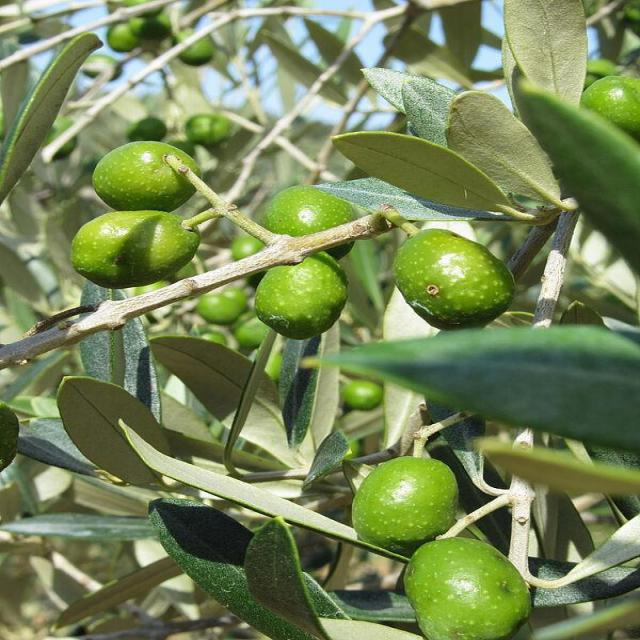Olive Fruit Fly: (405, 538, 530, 639), (394, 229, 514, 330)
